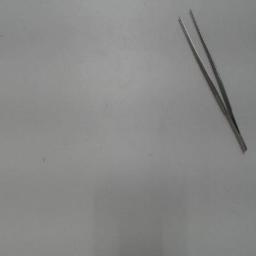Gillies Toothed Dissector: (174, 1, 252, 159)
